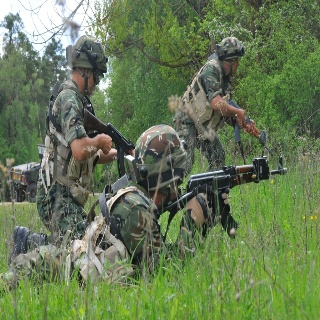rifle: (157, 154, 287, 245), (81, 104, 135, 178), (222, 95, 275, 158)
